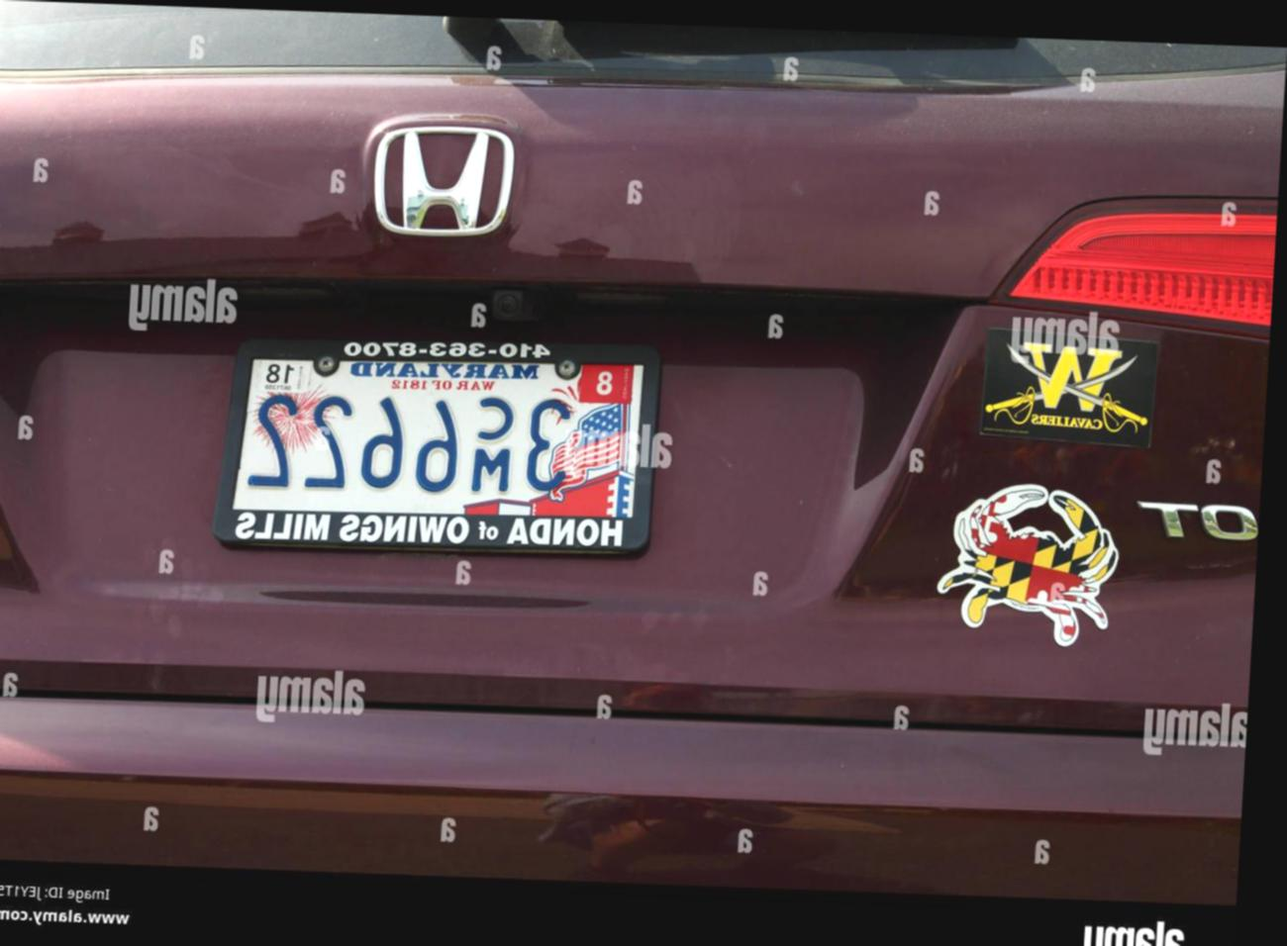License_Plate: (200, 318, 676, 569)
